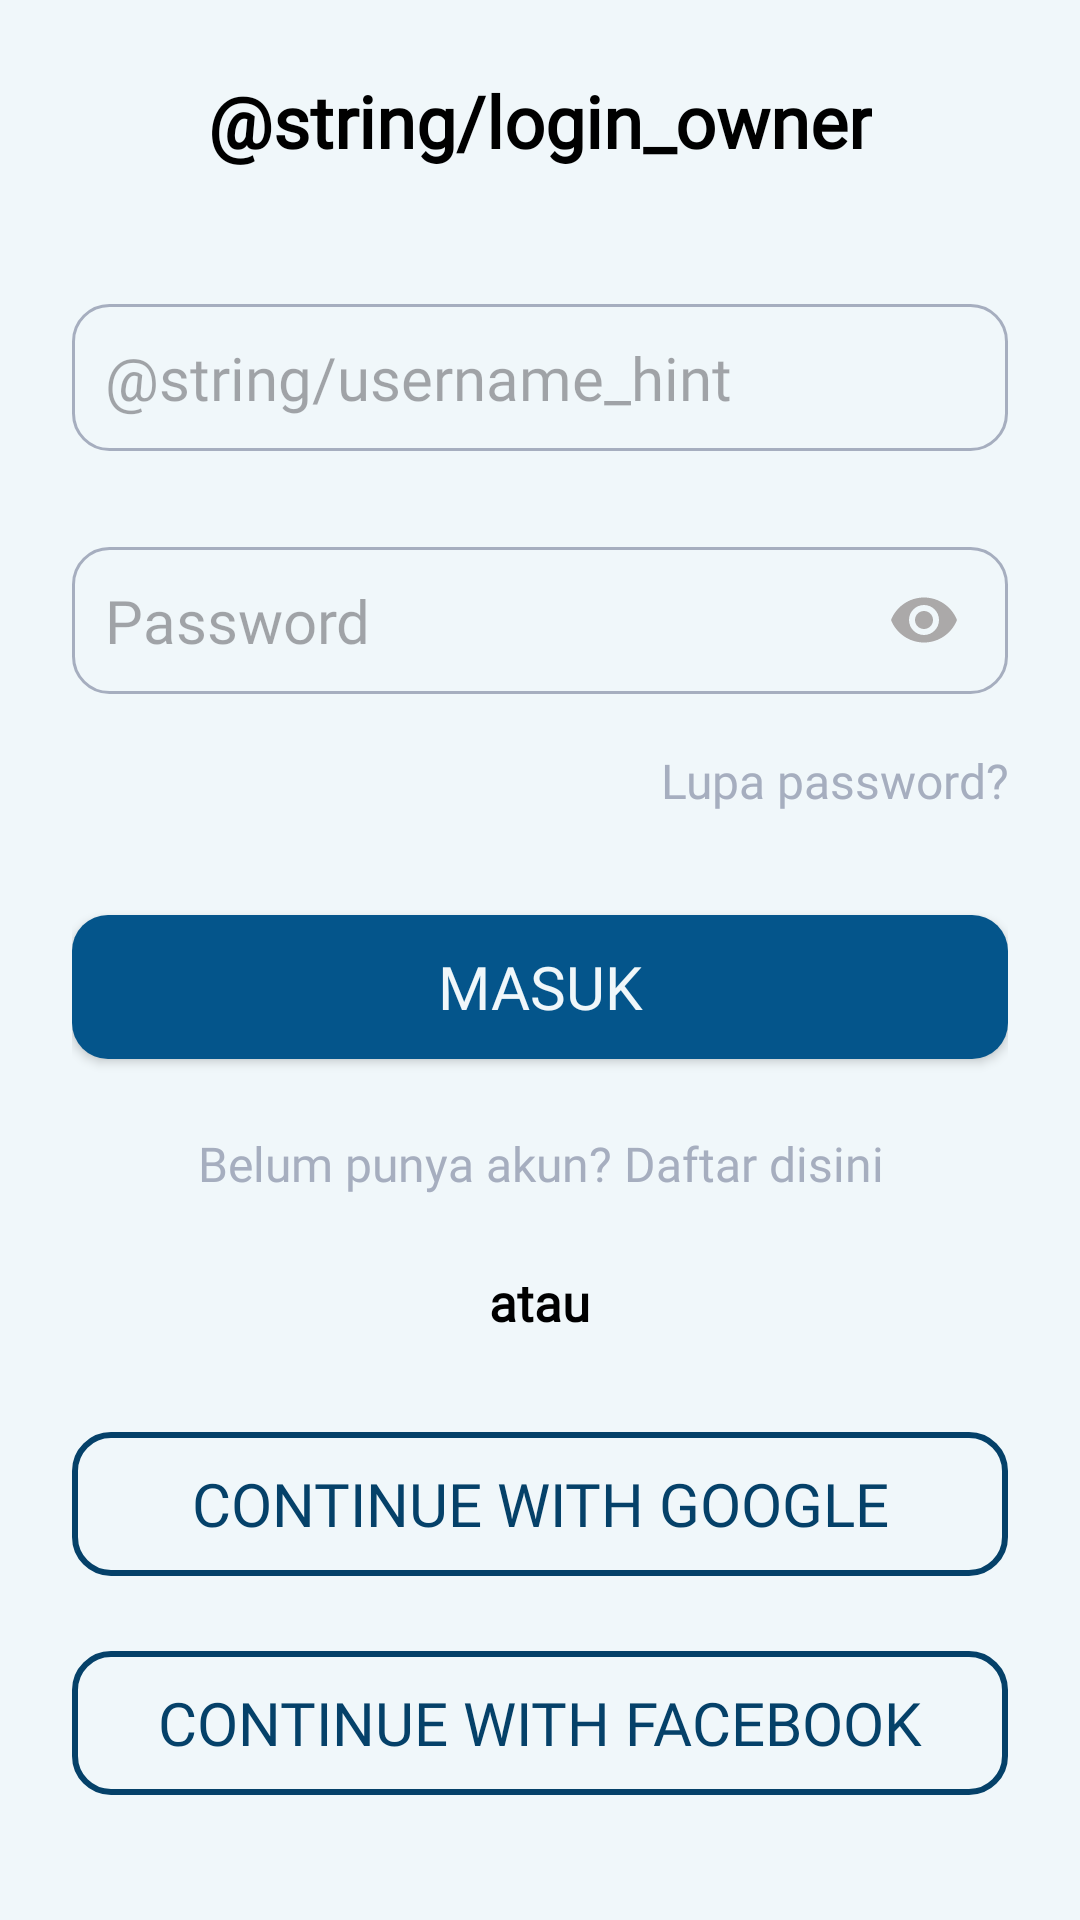

Icons on this 1080px×1920px Android screen, each with its box as (x1, y1, x2, y2):
visibility: (891, 597, 957, 643)
